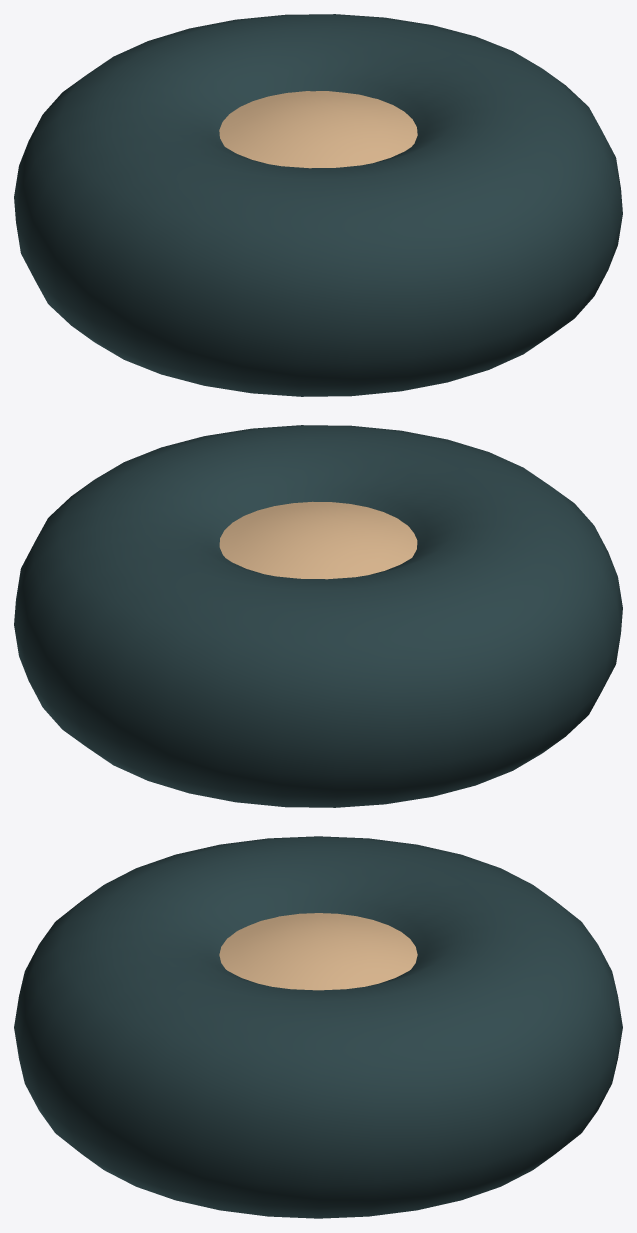
Rendered from FI_012_padded_beanbag.glb.
The picture shows the model from 3 angles, top to bottom: view 1: azimuth 30°, elevation 25°; view 2: azimuth 150°, elevation 25°; view 3: azimuth 270°, elevation 25°; orthographic projection.
Visible parts, largest first — view 1: padded_beanbag; view 2: padded_beanbag; view 3: padded_beanbag.
Part boxes in pixels (x1,y1,x2,y2): padded_beanbag: (14, 14, 622, 396); padded_beanbag: (14, 425, 622, 807); padded_beanbag: (14, 836, 622, 1218).
Size of the model in its own units: 1.6 by 0.5888 by 1.6.
